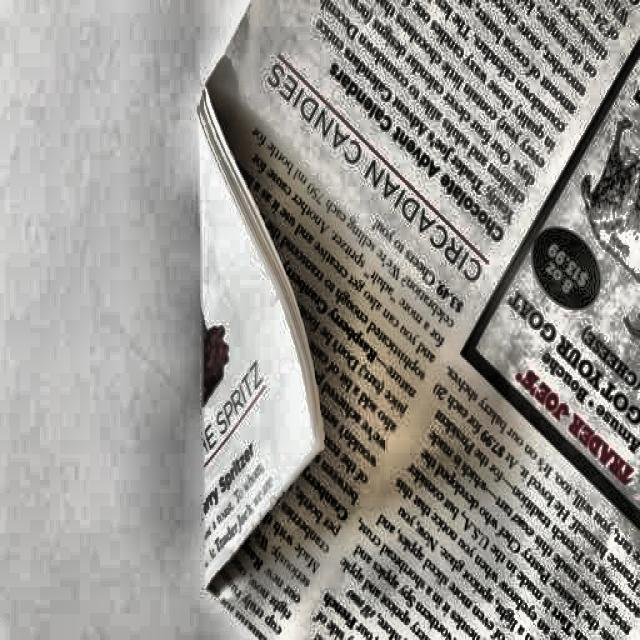paper: (188, 9, 640, 640)
